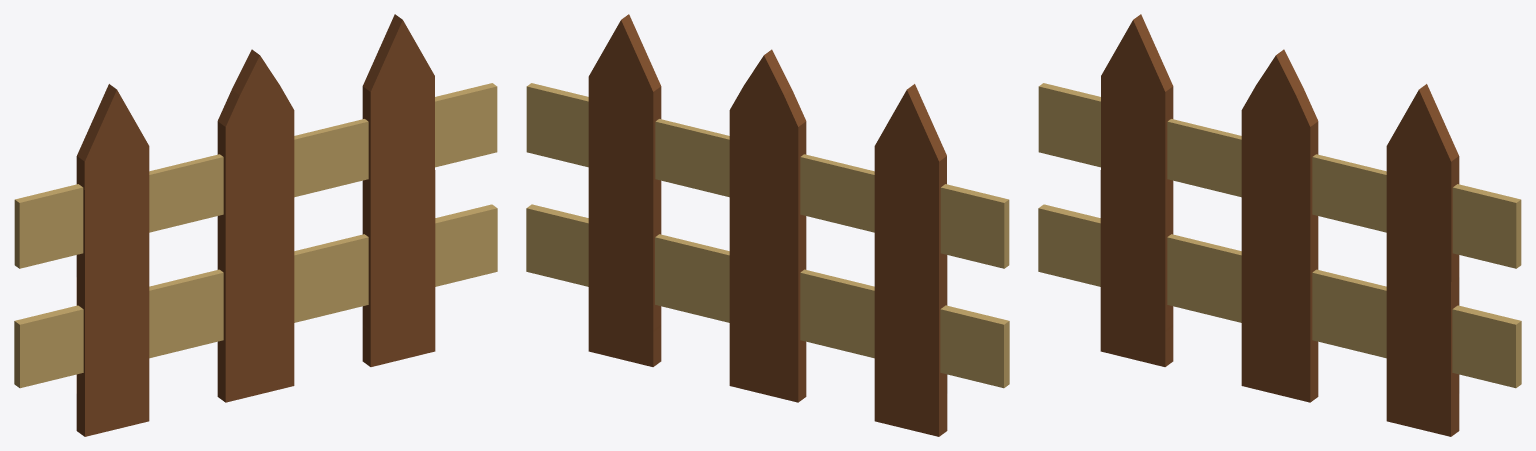
File: fenceconnector.fbx
The picture shows the model from 3 angles, left to right: view 1: azimuth 30°, elevation 25°; view 2: azimuth 150°, elevation 25°; view 3: azimuth 330°, elevation 25°; orthographic projection.
Visible parts, largest first — view 1: Cube; view 2: Cube; view 3: Cube.
Part boxes in pixels (<box>): Cube: <box>14,14,497,436</box>; Cube: <box>526,14,1009,436</box>; Cube: <box>1038,14,1521,436</box>.
Bounding box in the file's own units: 636 × 432 × 18.77.
